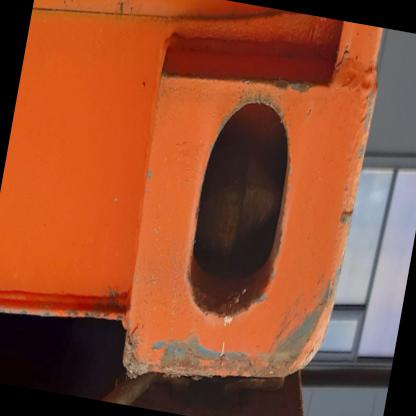CornerCasting: (105, 38, 380, 398)
